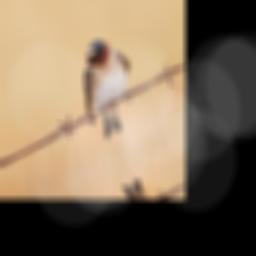Swallow: (66, 28, 148, 144)
